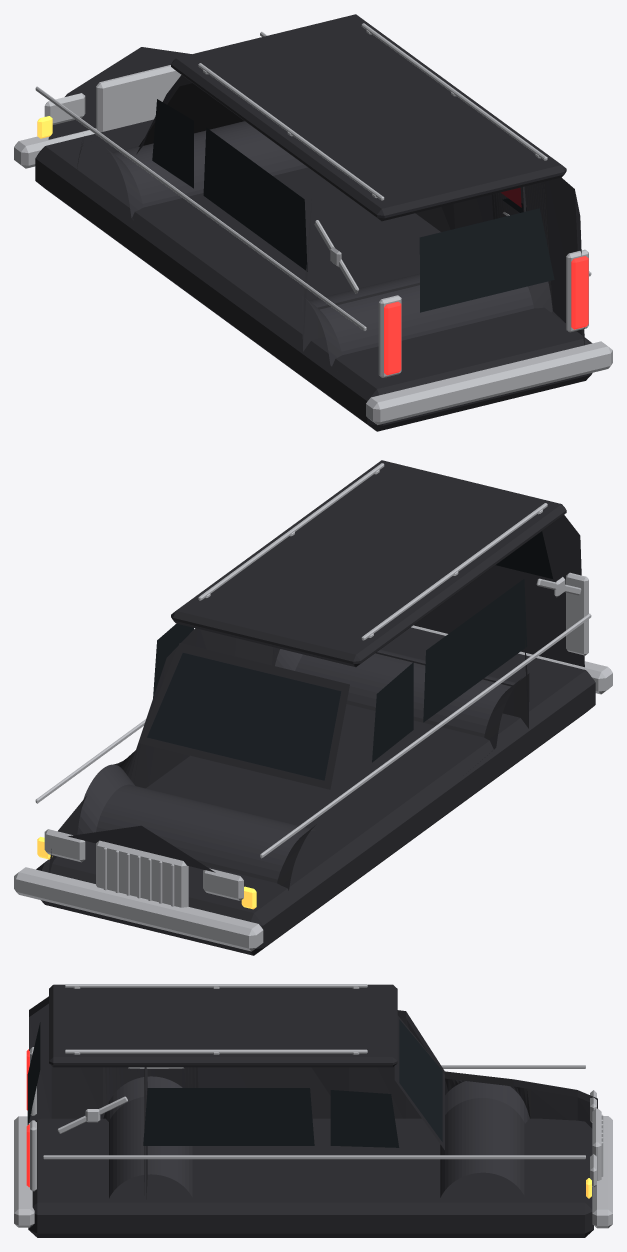
File: route77_hearse.glb
The picture shows the model from 3 angles, top to bottom: view 1: azimuth 30°, elevation 25°; view 2: azimuth 150°, elevation 25°; view 3: azimuth 270°, elevation 25°; orthographic projection. The views are drawn at different scales.
Visible parts, largest first — view 1: Hearse underbody, Funeral coach vinyl roof cap, Gothic hearse body shell, Hearse rear door glass, Hearse rear chrome bumper, Hearse coach glass, Hearse cathedral grille surround, Hearse cab side glass, Hearse windshield gasket, Hearse chrome beltline trim, Hearse vertical tail fin lamp, Hearse vertical tail fin lamp.001 (+6 smaller); view 2: Hearse underbody, Funeral coach vinyl roof cap, Gothic hearse body shell, Hearse windshield, Hearse coach glass, Hearse front chrome bumper, Hearse windshield gasket, Hearse cathedral grille surround, Hearse cab side glass, Hearse chrome beltline trim, Hearse tail chrome bezel, Hearse rear door glass (+6 smaller); view 3: Hearse underbody, Gothic hearse body shell, Funeral coach vinyl roof cap, Hearse coach glass.001, Hearse cab side glass.001, Hearse windshield, Hearse chrome beltline trim.001, Hearse rear chrome bumper, Hearse front chrome bumper, Hearse chrome roof rail.001, Hearse chrome roof rail, Hearse windshield gasket (+5 smaller).
Part boxes in pixels (bbox=[...]): Hearse underbody: bbox=[35, 119, 592, 431]; Funeral coach vinyl roof cap: bbox=[171, 14, 566, 221]; Gothic hearse body shell: bbox=[48, 47, 584, 366]; Hearse rear door glass: bbox=[419, 208, 554, 312]; Hearse rear chrome bumper: bbox=[366, 341, 612, 424]; Hearse coach glass: bbox=[203, 127, 307, 271]; Hearse cathedral grille surround: bbox=[96, 65, 181, 132]; Hearse cab side glass: bbox=[152, 99, 193, 188]; Hearse windshield gasket: bbox=[138, 83, 244, 146]; Hearse chrome beltline trim: bbox=[35, 86, 366, 330]; Hearse vertical tail fin lamp: bbox=[384, 301, 401, 375]; Hearse vertical tail fin lamp.001: bbox=[571, 256, 588, 329]; Hearse underbody: bbox=[36, 627, 595, 955]; Funeral coach vinyl roof cap: bbox=[171, 460, 566, 667]; Gothic hearse body shell: bbox=[48, 515, 584, 890]; Hearse windshield: bbox=[147, 653, 341, 780]; Hearse coach glass: bbox=[423, 579, 527, 722]; Hearse front chrome bumper: bbox=[14, 867, 263, 951]; Hearse windshield gasket: bbox=[138, 643, 349, 789]; Hearse cathedral grille surround: bbox=[96, 840, 188, 907]; Hearse cab side glass: bbox=[372, 662, 413, 762]; Hearse chrome beltline trim: bbox=[260, 613, 591, 858]; Hearse tail chrome bezel: bbox=[566, 572, 588, 655]; Hearse rear door glass: bbox=[496, 531, 552, 578]; Hearse underbody: bbox=[28, 1118, 593, 1237]; Gothic hearse body shell: bbox=[29, 996, 597, 1199]; Funeral coach vinyl roof cap: bbox=[49, 984, 397, 1067]; Hearse coach glass.001: bbox=[143, 1088, 314, 1145]; Hearse cab side glass.001: bbox=[330, 1090, 399, 1147]; Hearse windshield: bbox=[399, 1019, 442, 1141]; Hearse chrome beltline trim.001: bbox=[43, 1155, 585, 1159]; Hearse rear chrome bumper: bbox=[14, 1116, 34, 1227]; Hearse front chrome bumper: bbox=[592, 1116, 612, 1228]; Hearse chrome roof rail.001: bbox=[65, 1049, 367, 1053]; Hearse chrome roof rail: bbox=[65, 984, 367, 987]; Hearse windshield gasket: bbox=[394, 1015, 444, 1149].
Bounding box in the file's own units: 2.02 × 1.72 × 5.24.
